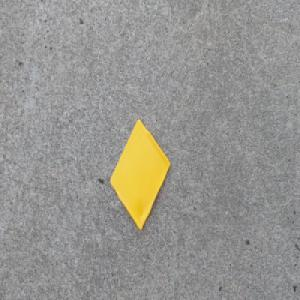PlasticPart: (108, 118, 171, 234)
